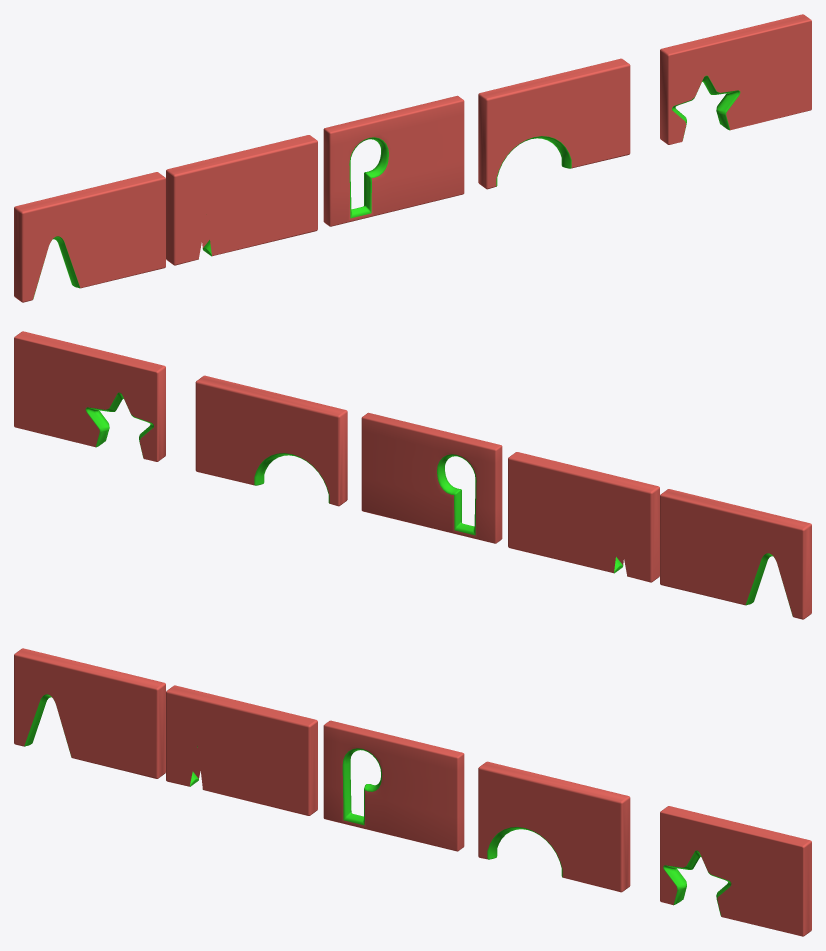
File: obstacles2WithOutline.fbx
3 views of the same model, one above another, from view 1: azimuth 30°, elevation 25°; view 2: azimuth 150°, elevation 25°; view 3: azimuth 330°, elevation 25° (orthographic).
Parts seen in each view (by area): view 1: oobst1, oobst6, oobst5, oobst2, oobst4; view 2: oobst1, oobst6, oobst5, oobst2, oobst4; view 3: oobst1, oobst6, oobst5, oobst2, oobst4.
Boxes of the visible parts, x1=… form: oobst1: x1=166, y1=135, x2=317, y2=265; oobst6: x1=14, y1=172, x2=165, y2=302; oobst5: x1=660, y1=14, x2=811, y2=144; oobst2: x1=323, y1=95, x2=464, y2=226; oobst4: x1=478, y1=58, x2=630, y2=189; oobst1: x1=508, y1=452, x2=659, y2=582; oobst6: x1=660, y1=489, x2=811, y2=619; oobst5: x1=14, y1=331, x2=165, y2=461; oobst2: x1=361, y1=412, x2=502, y2=543; oobst4: x1=195, y1=375, x2=347, y2=506; oobst1: x1=166, y1=685, x2=317, y2=815; oobst6: x1=14, y1=648, x2=165, y2=778; oobst5: x1=660, y1=806, x2=811, y2=936; oobst2: x1=323, y1=720, x2=464, y2=851; oobst4: x1=478, y1=761, x2=630, y2=892.
Bounding box in the file's own units: 5503 × 630 × 109.
